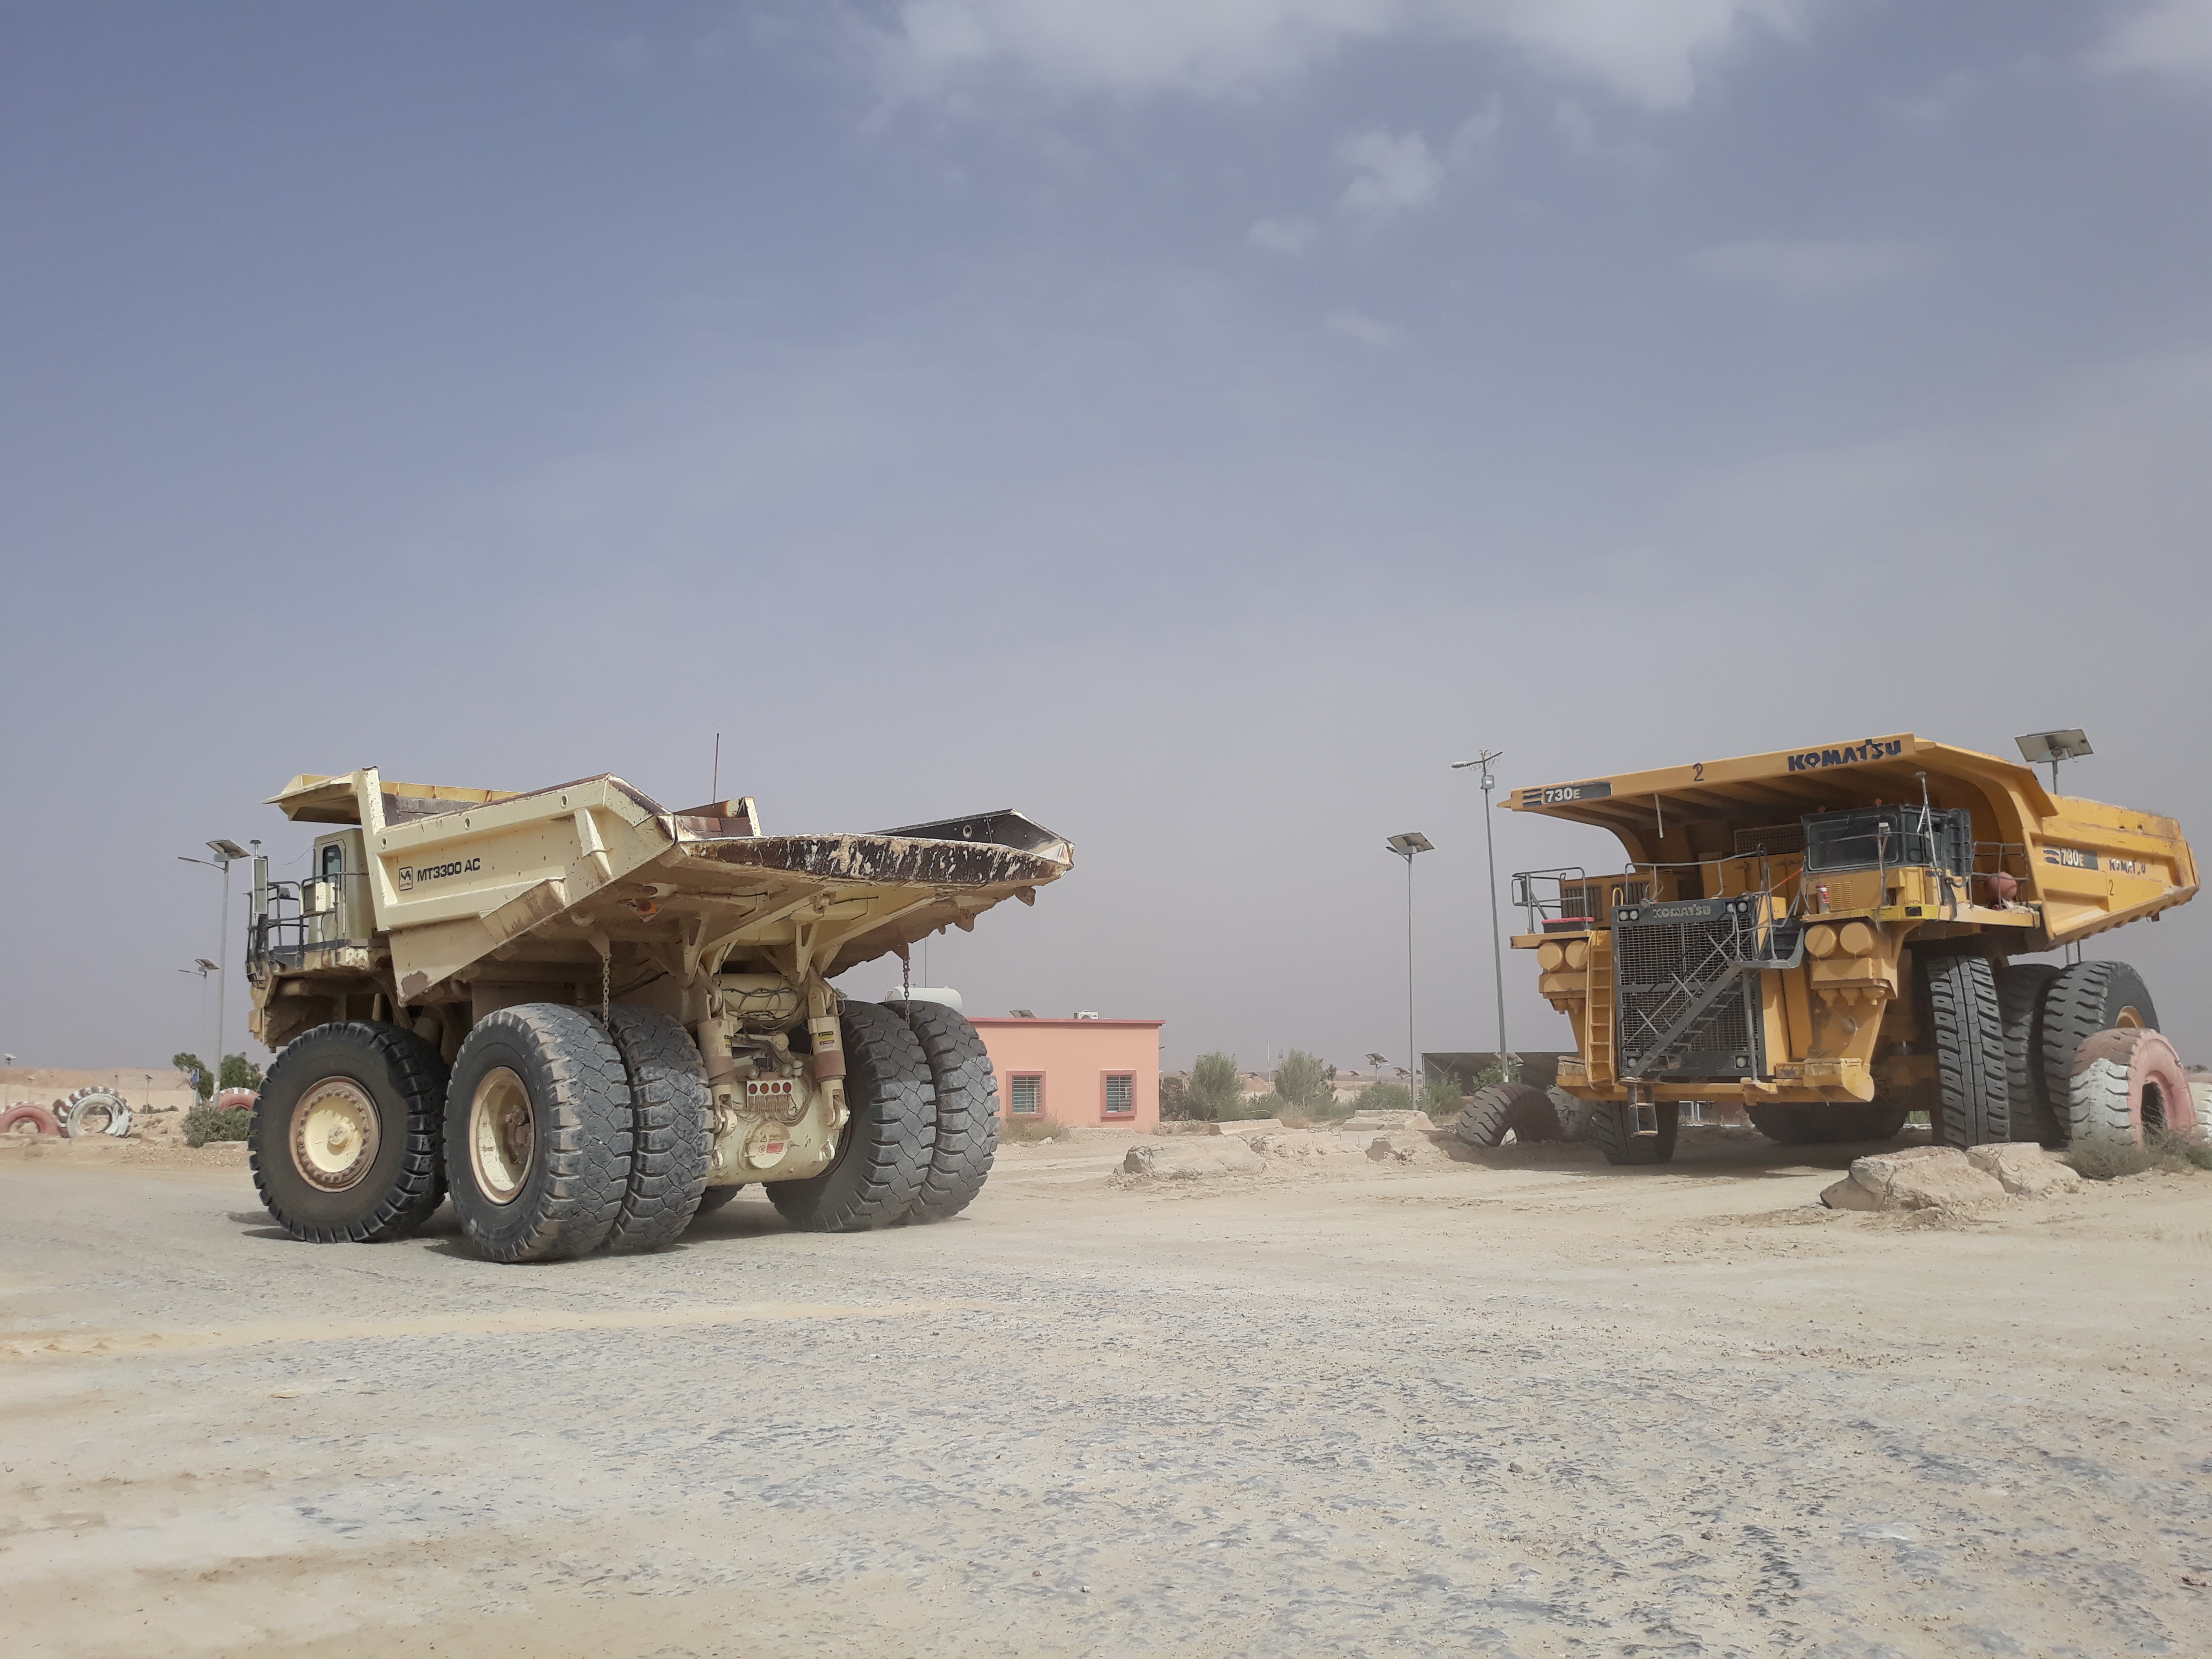camion: (204, 749, 1104, 1277), (1477, 725, 2212, 1195)
